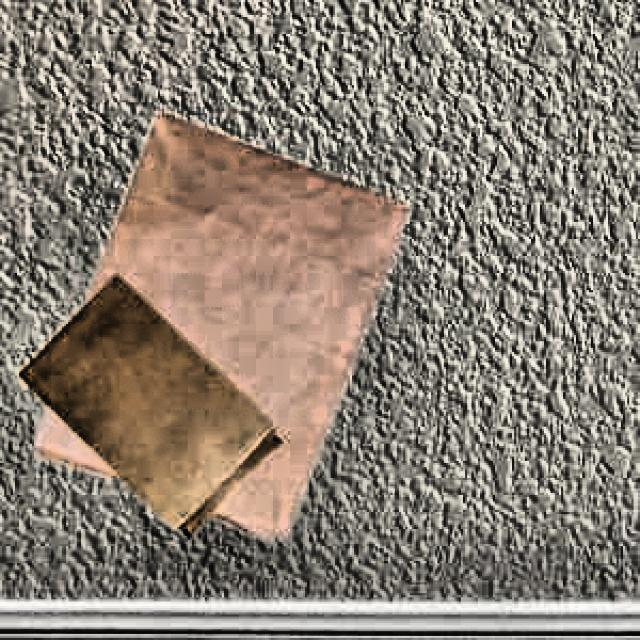Paper-bag: (32, 102, 422, 568), (10, 263, 273, 539)
